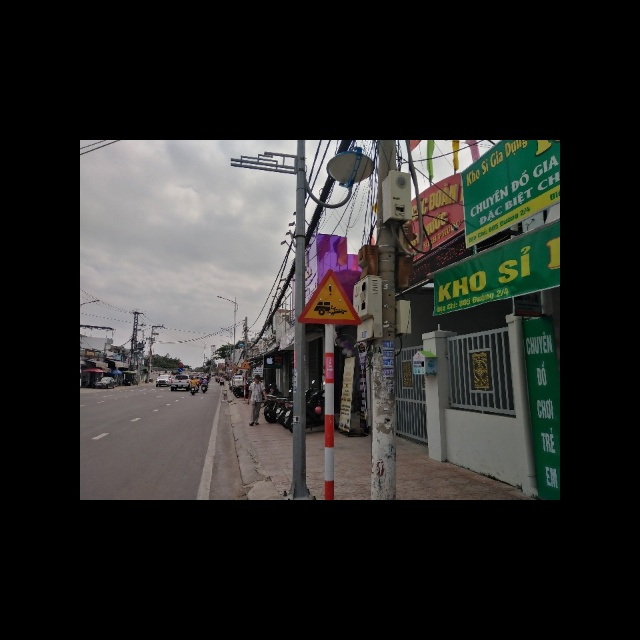Đoạn đường hay xảy ra tai nạn: (296, 268, 361, 326)
Đường đôi: (239, 358, 251, 370)
